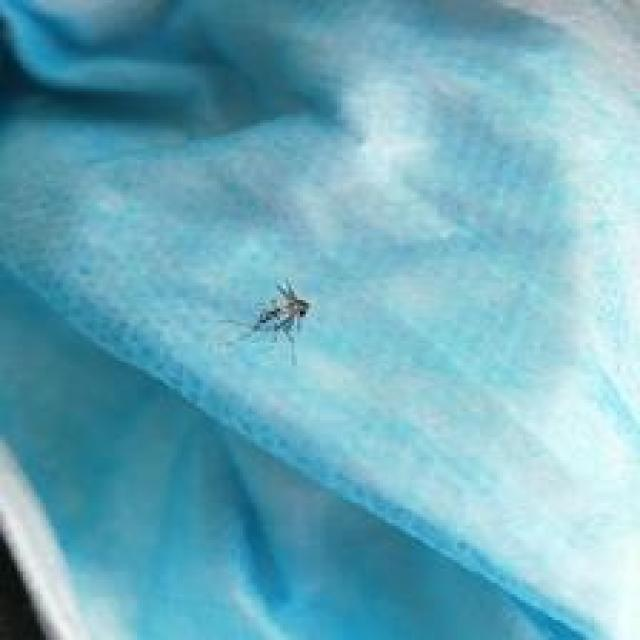Aedes albopictus: (220, 276, 311, 367)
